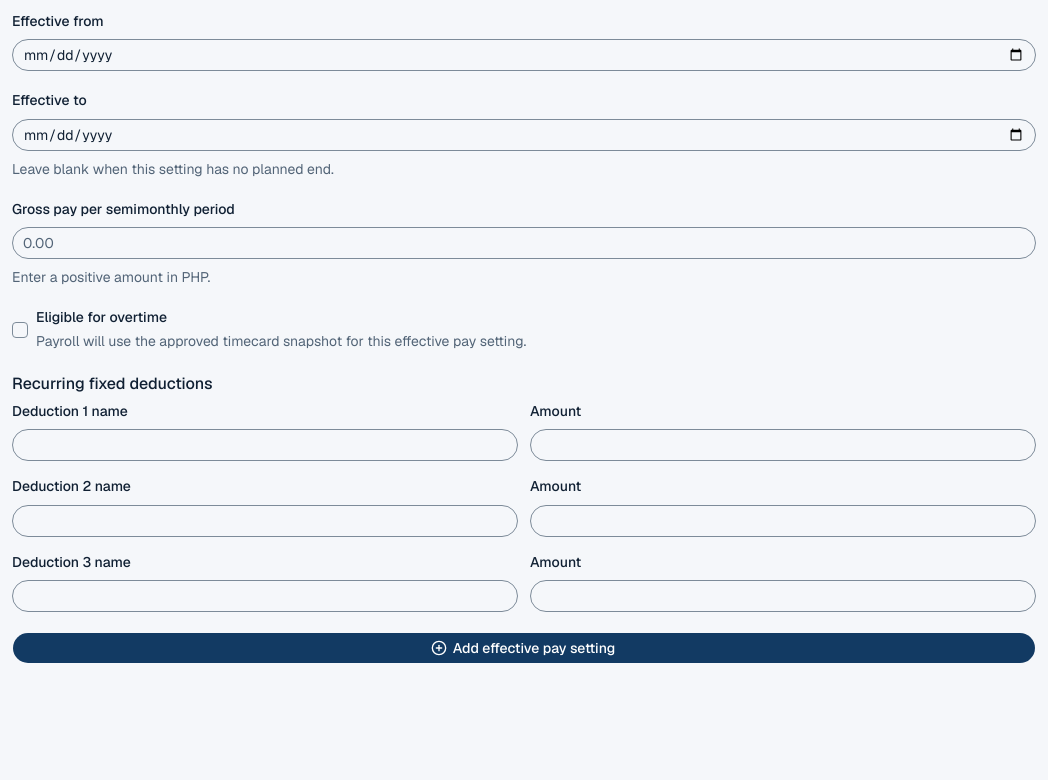
Test case: payroll forms › reveals bounded overtime inputs and carries concurrency fields, covers: overtime AC-1, AC-2, and AC-6
Expected: the field labelled "Standard period minutes" is not shown
Click the checkbox named "Eligible for overtime" at [20, 330], box [12,322,28,338]
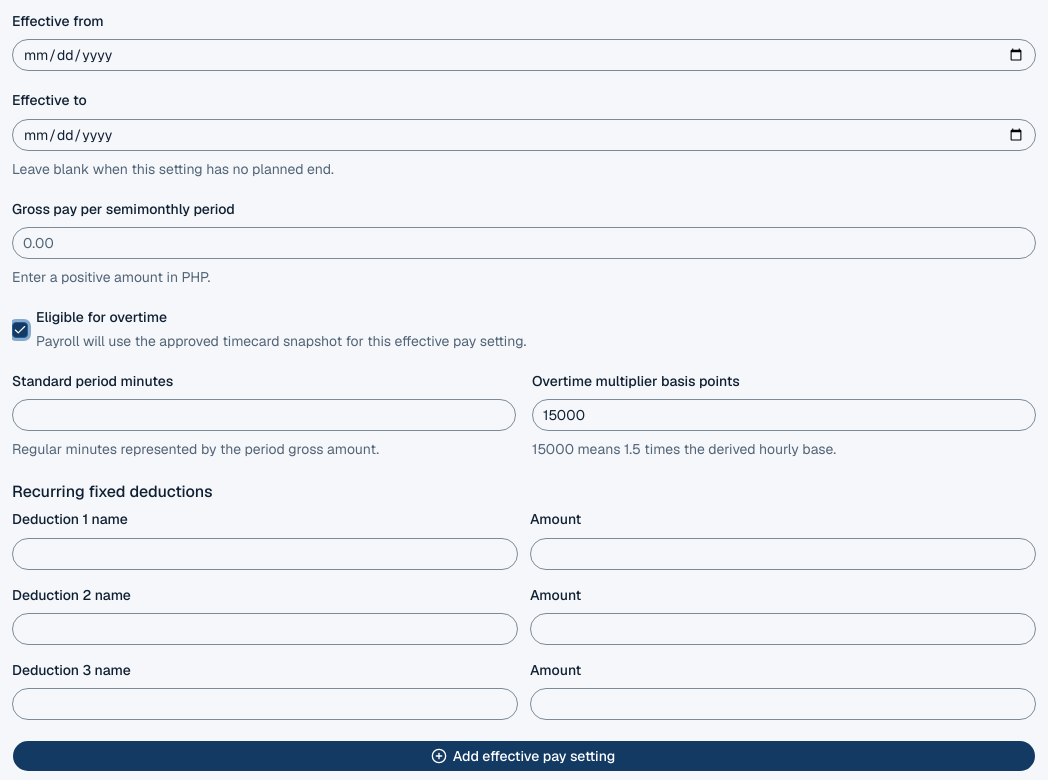
Expected: the number field labelled "Overtime multiplier basis points" holds "15000", [532,399,1036,431]
